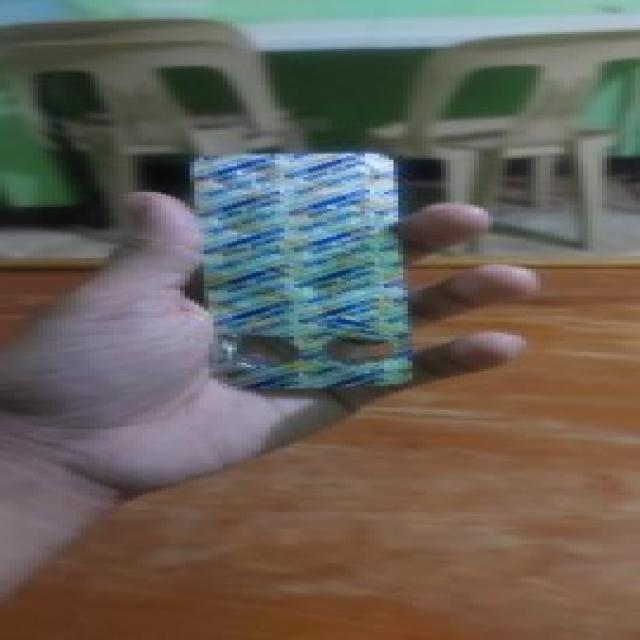Cacat: (187, 154, 415, 393)
Kemasan: (223, 326, 408, 375)
